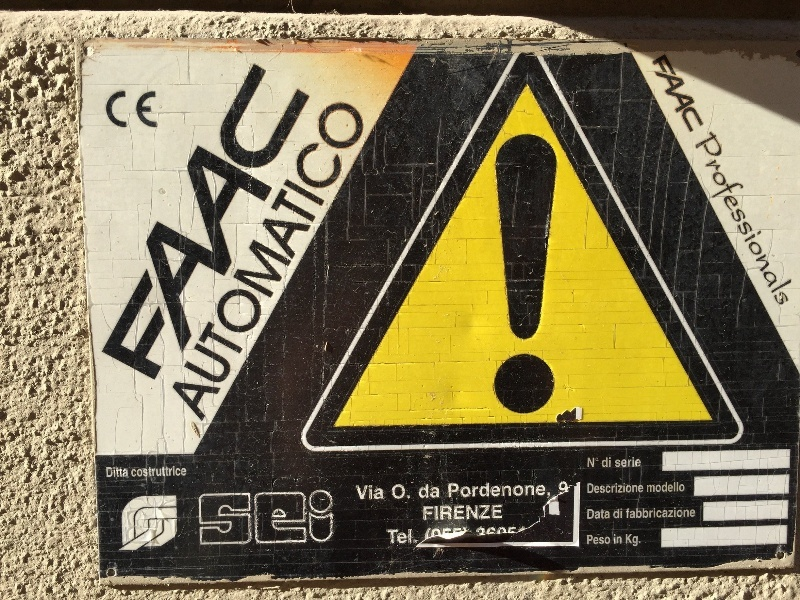text: (97, 55, 112, 394), (113, 55, 128, 394), (129, 55, 144, 394), (145, 55, 160, 394), (161, 55, 176, 394), (177, 55, 192, 394), (193, 55, 208, 394), (209, 55, 224, 394), (225, 55, 240, 394), (241, 55, 256, 394), (257, 55, 272, 394), (273, 55, 288, 394), (289, 55, 304, 394), (305, 55, 320, 394), (177, 91, 192, 427), (193, 91, 208, 427), (209, 91, 224, 427), (225, 91, 240, 427), (241, 91, 256, 427), (257, 91, 272, 427), (273, 91, 288, 427), (289, 91, 304, 427), (305, 91, 320, 427), (321, 91, 336, 427), (337, 91, 352, 427), (353, 91, 368, 427), (497, 133, 512, 415), (513, 133, 528, 415), (529, 133, 544, 415), (545, 133, 558, 415), (87, 55, 96, 394), (721, 129, 736, 321), (737, 129, 752, 321), (753, 129, 768, 321), (769, 129, 784, 321), (488, 133, 496, 415), (785, 129, 796, 321), (170, 91, 176, 427), (673, 51, 688, 137), (689, 51, 704, 137), (369, 91, 372, 427), (715, 129, 720, 321), (209, 489, 224, 547), (225, 489, 240, 547), (241, 489, 256, 547), (257, 489, 272, 547), (273, 489, 288, 547), (289, 489, 304, 547), (305, 489, 320, 547), (321, 489, 334, 547), (321, 55, 323, 394), (113, 89, 128, 128), (129, 89, 144, 128), (198, 489, 208, 547), (145, 89, 157, 128), (667, 51, 672, 137), (705, 51, 708, 137), (369, 484, 385, 500), (449, 482, 464, 499), (465, 482, 480, 499), (481, 482, 496, 499), (497, 482, 512, 499), (513, 482, 528, 499), (529, 482, 544, 499), (433, 504, 448, 521), (449, 504, 464, 521), (465, 504, 480, 521), (481, 504, 496, 521), (401, 529, 416, 545), (106, 89, 112, 128), (354, 484, 368, 500), (386, 529, 400, 545), (626, 534, 640, 548), (419, 484, 432, 499), (433, 527, 448, 540), (449, 527, 464, 540), (465, 527, 480, 540), (481, 527, 496, 540), (497, 527, 512, 540), (113, 466, 129, 478), (145, 466, 160, 478), (161, 466, 176, 478), (625, 456, 640, 468), (593, 482, 608, 494), (609, 482, 624, 494), (625, 482, 640, 494), (641, 507, 656, 519), (657, 507, 672, 519), (673, 507, 688, 519), (626, 507, 640, 519), (657, 482, 672, 493), (593, 534, 608, 545), (401, 484, 411, 500), (131, 466, 144, 478), (423, 504, 432, 521), (593, 509, 608, 519), (673, 482, 685, 493), (392, 484, 400, 500), (613, 508, 624, 519), (177, 466, 187, 478), (561, 481, 569, 495), (614, 534, 624, 545), (433, 484, 440, 499), (497, 504, 503, 521), (647, 482, 656, 493), (616, 456, 624, 468), (545, 482, 550, 499), (689, 507, 696, 519), (426, 527, 432, 540), (106, 466, 112, 478), (593, 458, 600, 468), (602, 457, 608, 468), (587, 534, 592, 545), (513, 527, 517, 540), (587, 509, 592, 519), (588, 482, 592, 494), (588, 458, 592, 468), (641, 482, 644, 494), (558, 481, 560, 495), (609, 457, 611, 468), (609, 534, 611, 545), (417, 529, 418, 545), (641, 456, 642, 468), (609, 509, 610, 519)
